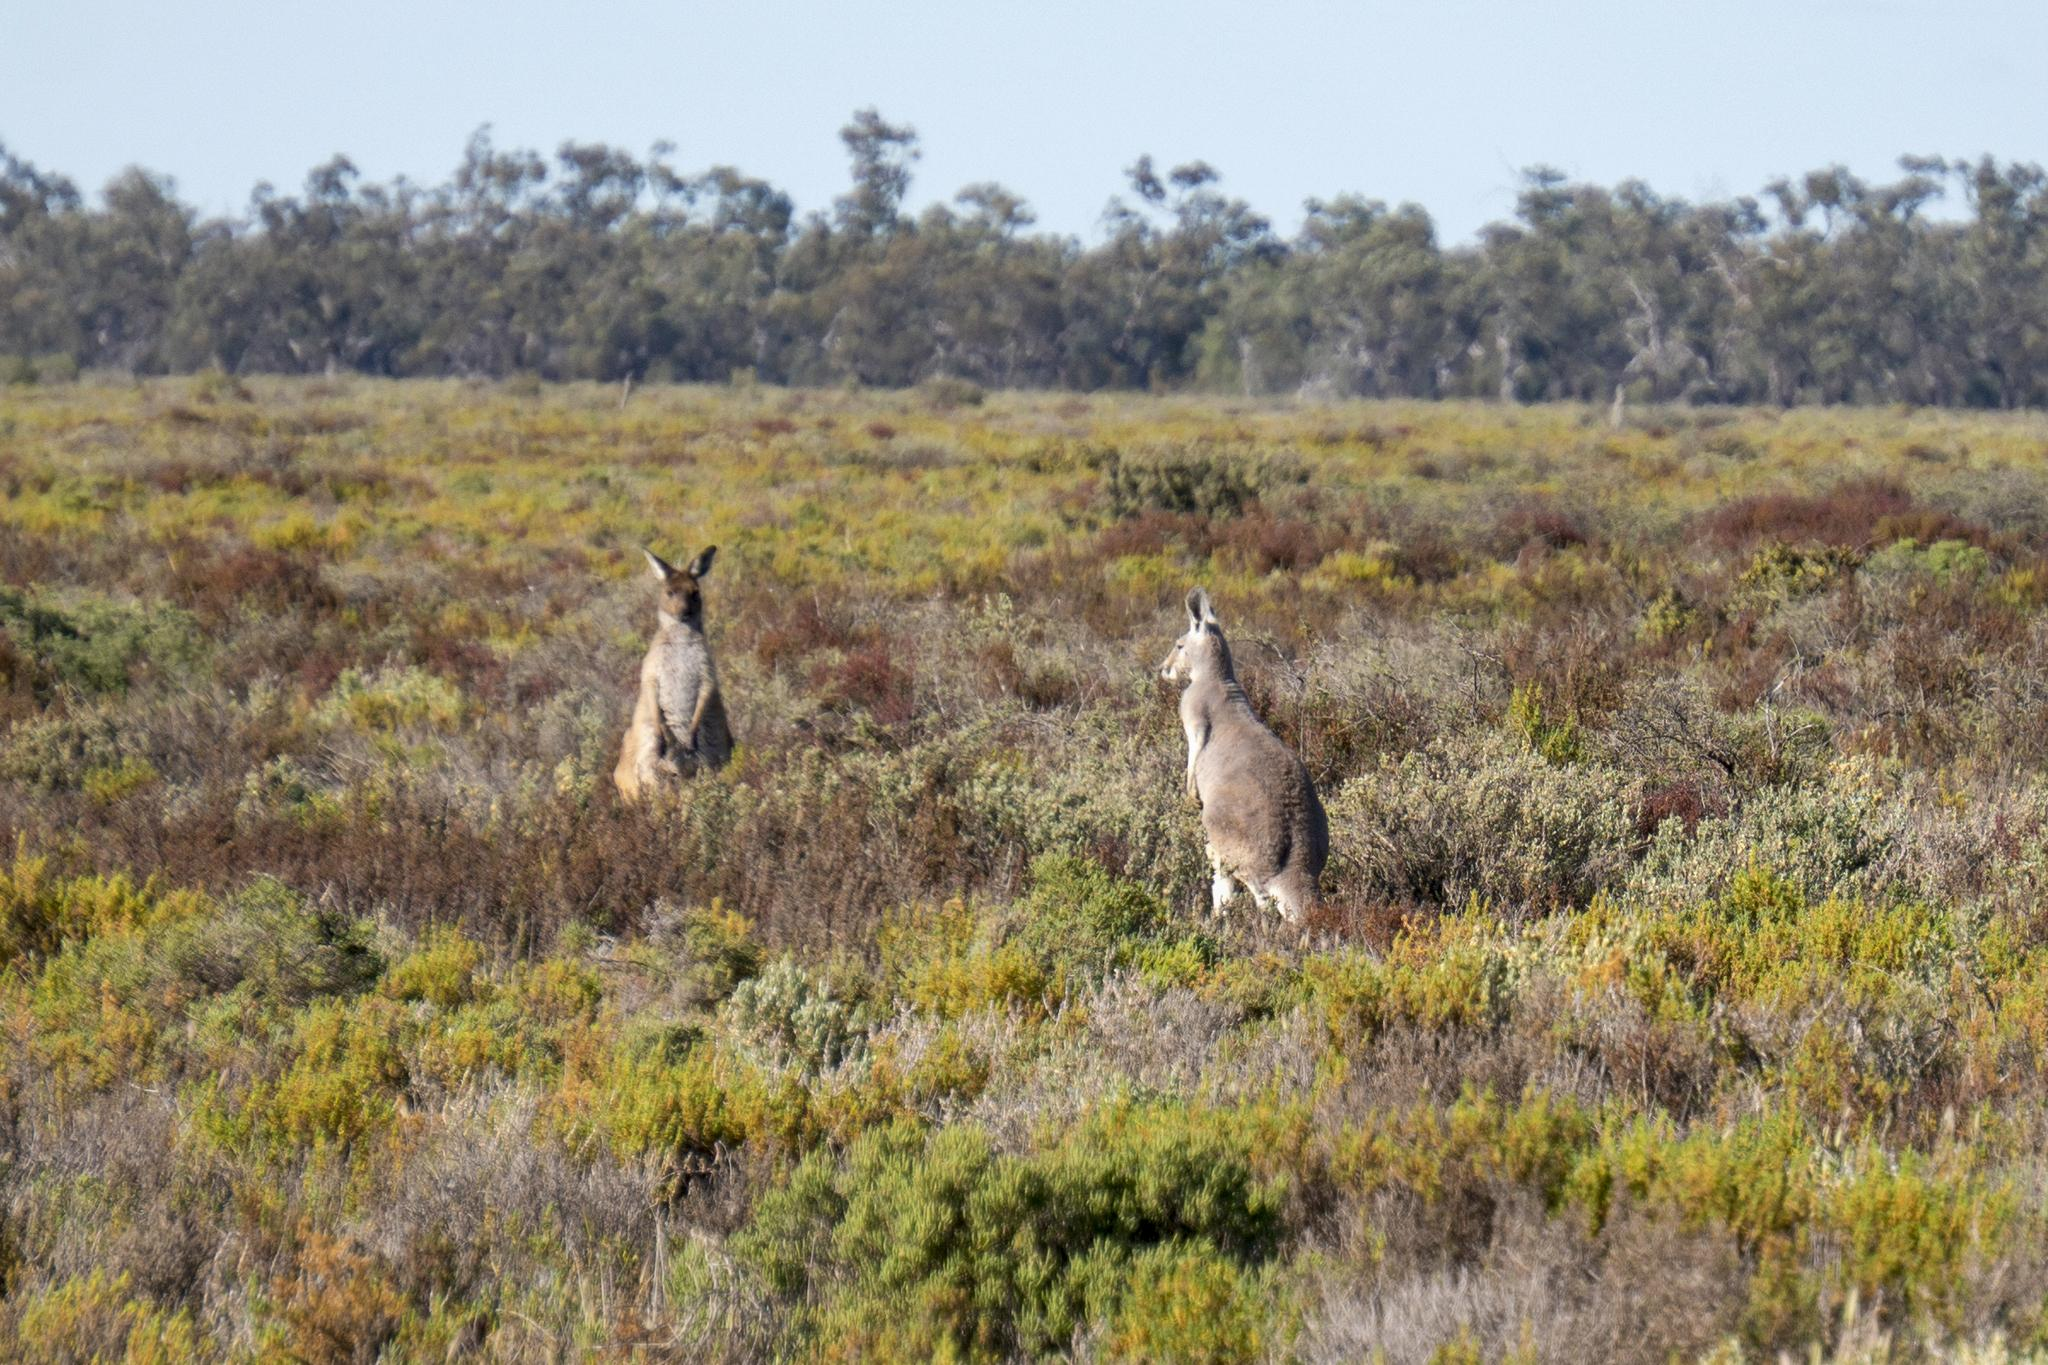Red kangaroo: (1154, 583, 1332, 938), (614, 544, 738, 817)
